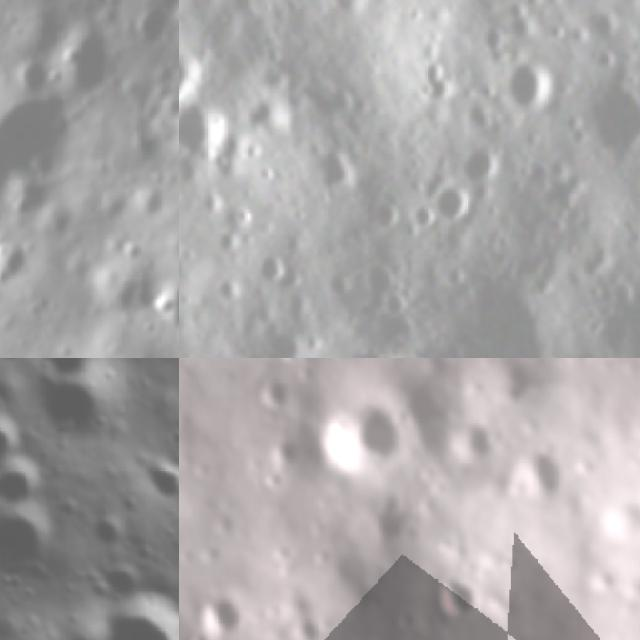crater: (559, 66, 640, 185), (27, 358, 124, 457), (316, 383, 410, 478), (217, 324, 454, 358), (482, 42, 570, 130), (50, 18, 124, 101), (85, 575, 179, 640), (16, 358, 149, 398), (179, 84, 237, 168), (504, 438, 570, 508), (448, 132, 517, 197), (0, 495, 56, 575), (349, 488, 413, 550), (424, 566, 488, 624), (419, 177, 480, 235), (444, 408, 505, 465), (194, 584, 254, 637), (0, 452, 52, 510), (249, 237, 293, 295), (179, 32, 211, 111), (124, 0, 170, 51), (12, 48, 56, 99), (142, 451, 179, 508), (0, 230, 35, 290), (128, 182, 172, 228), (101, 557, 147, 601), (0, 404, 31, 467), (86, 507, 128, 551), (257, 372, 302, 410), (403, 194, 443, 234), (130, 535, 169, 571), (267, 432, 304, 467), (149, 284, 179, 321), (83, 577, 110, 606)
